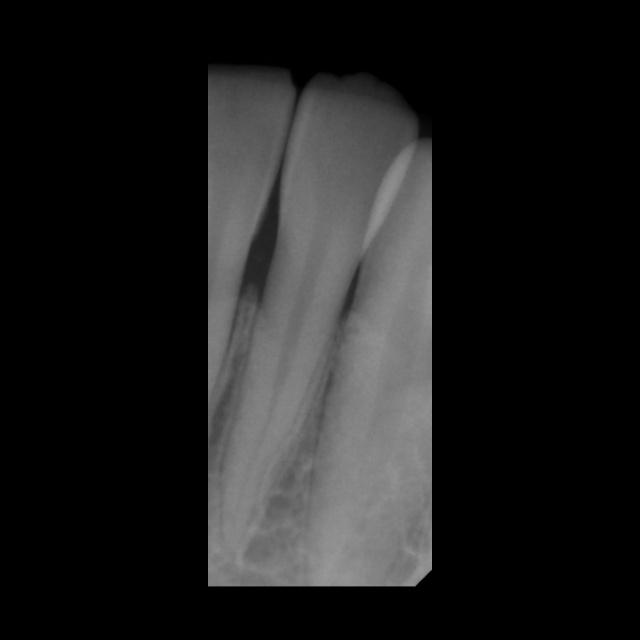tooth: (220, 76, 420, 560)
